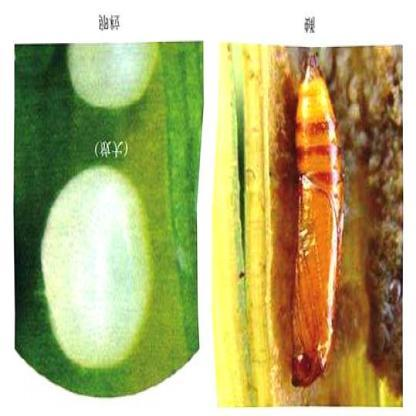whorl-maggot: (290, 53, 349, 396)
